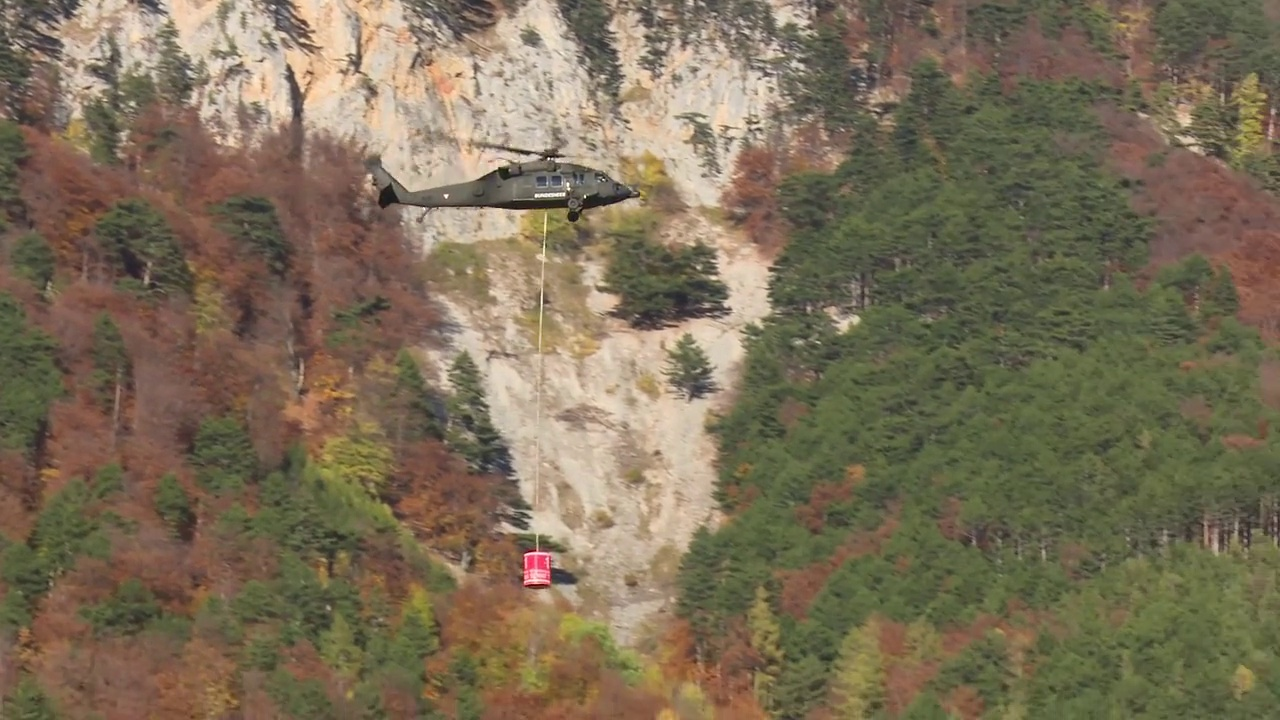heli: (372, 138, 641, 223)
